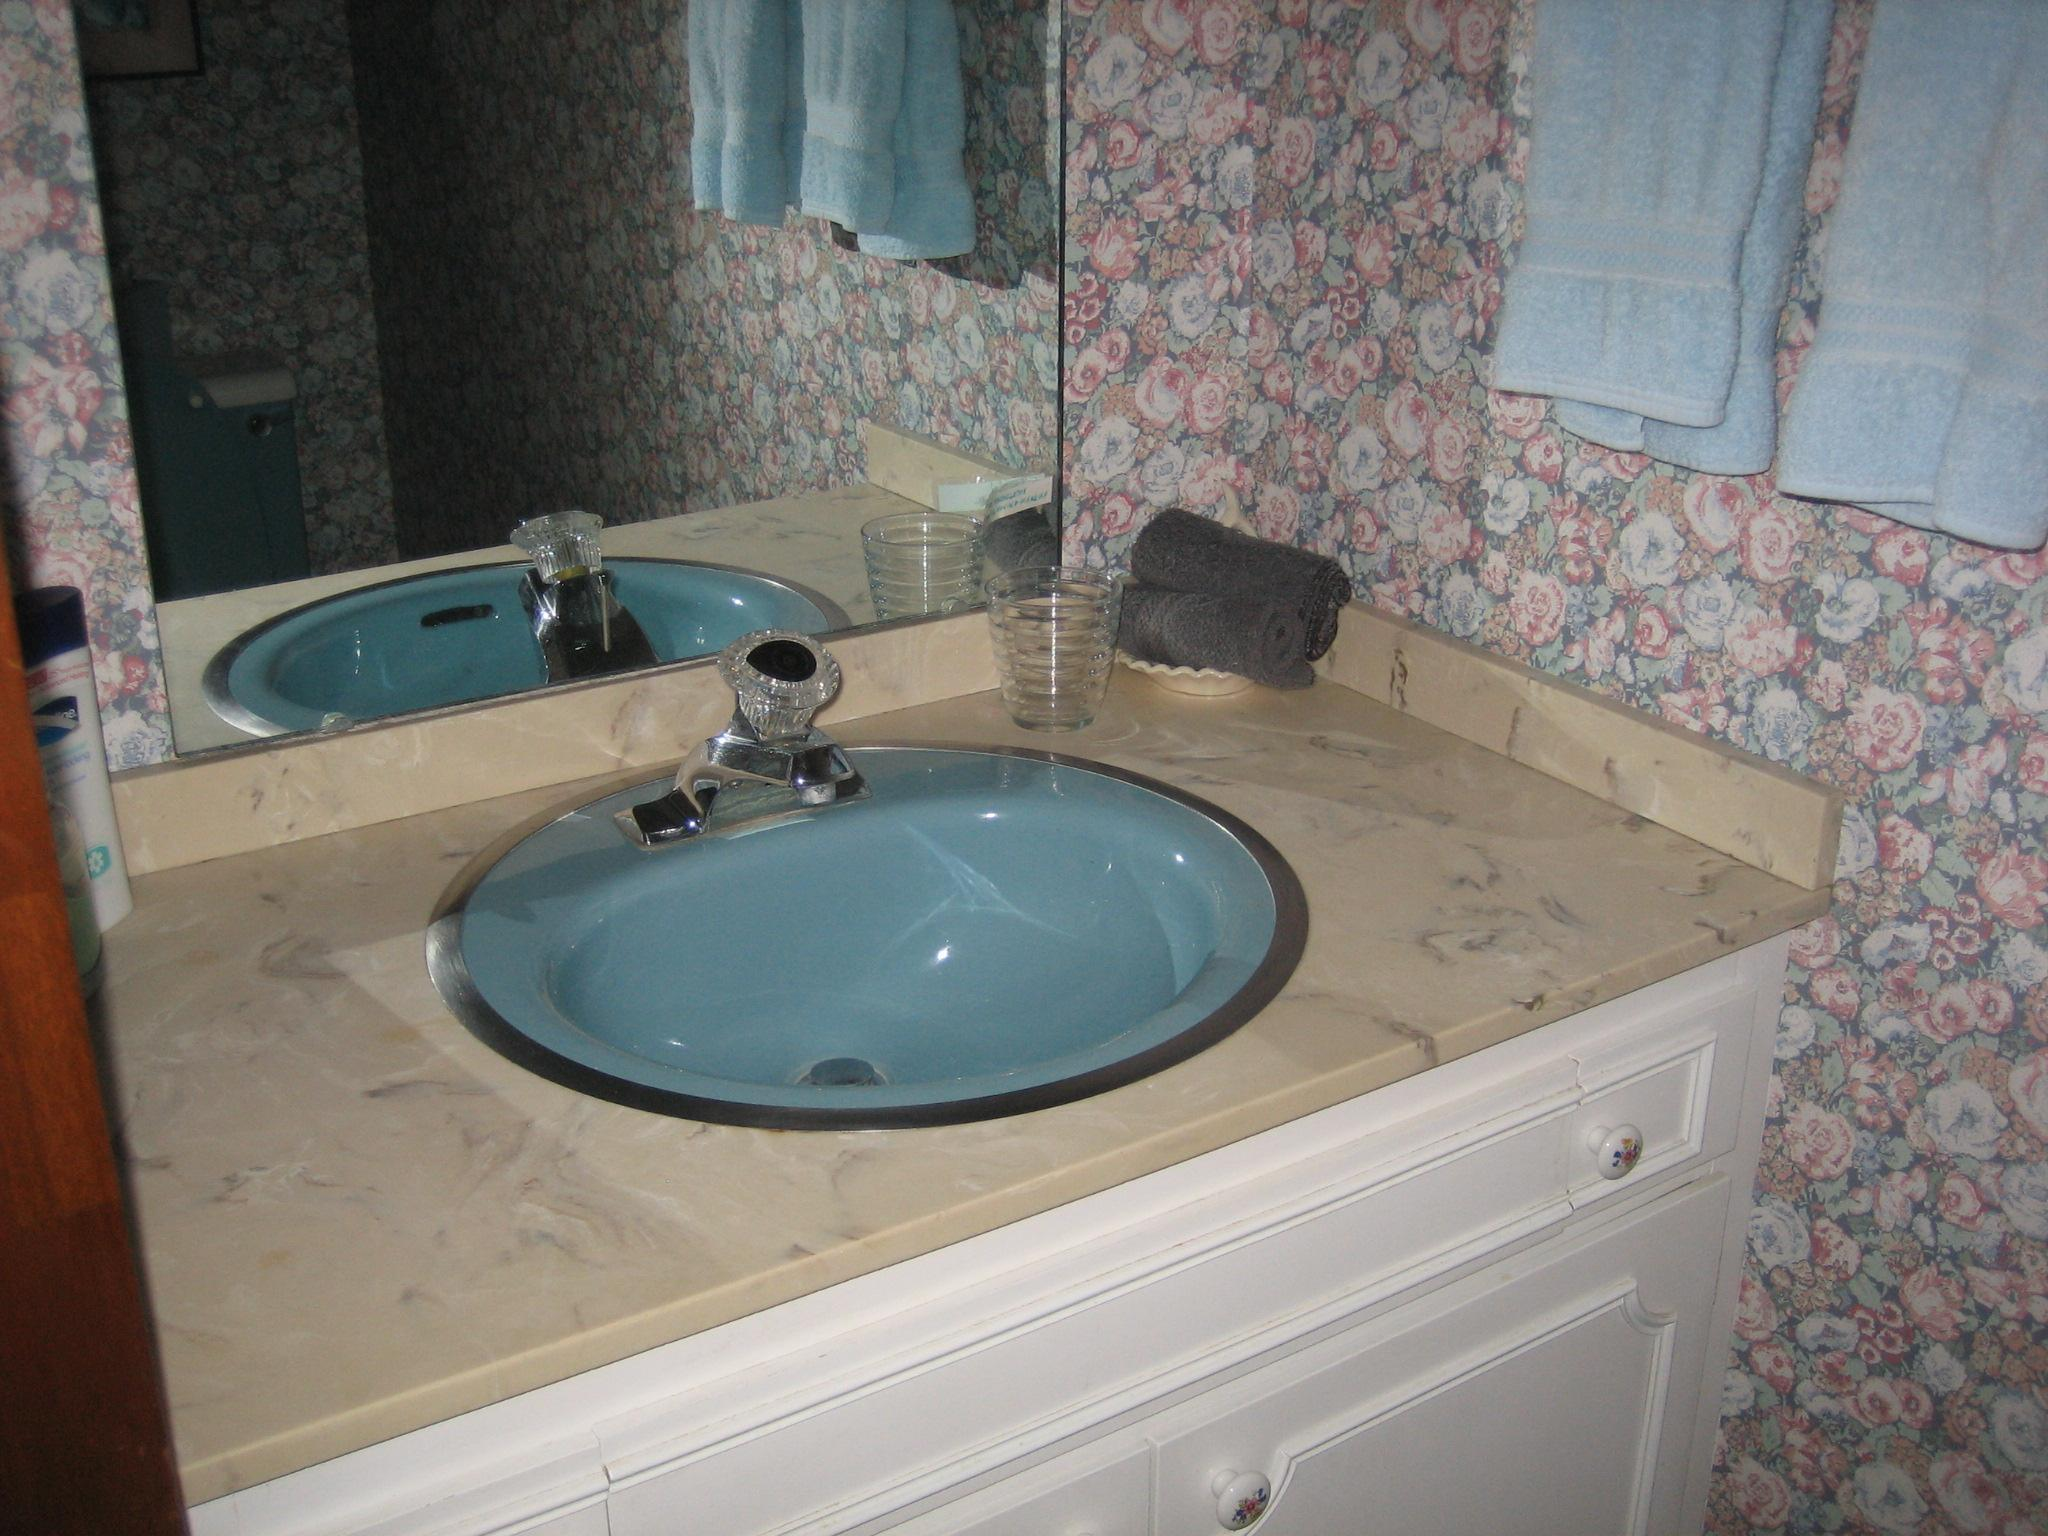Lavamanos: (418, 624, 1384, 1118)
